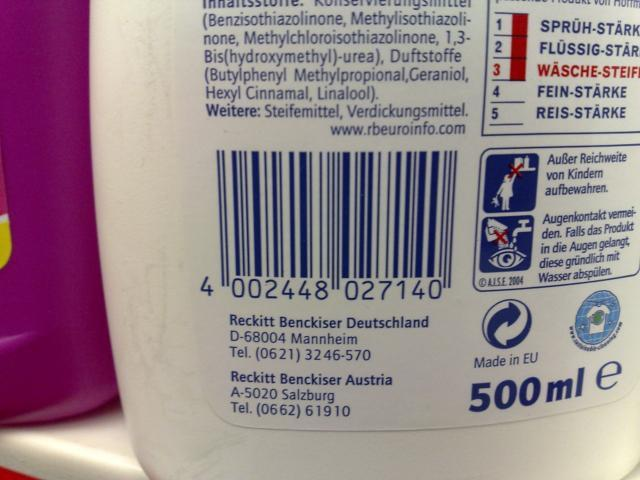Barcode: (192, 142, 467, 309)
